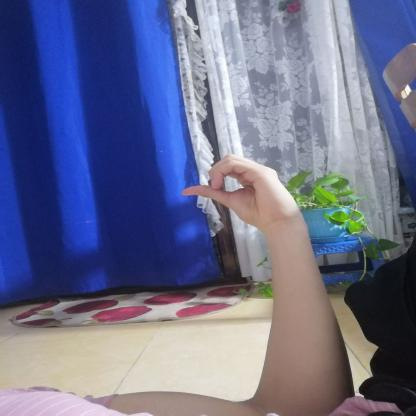WAW: (170, 144, 307, 235)
